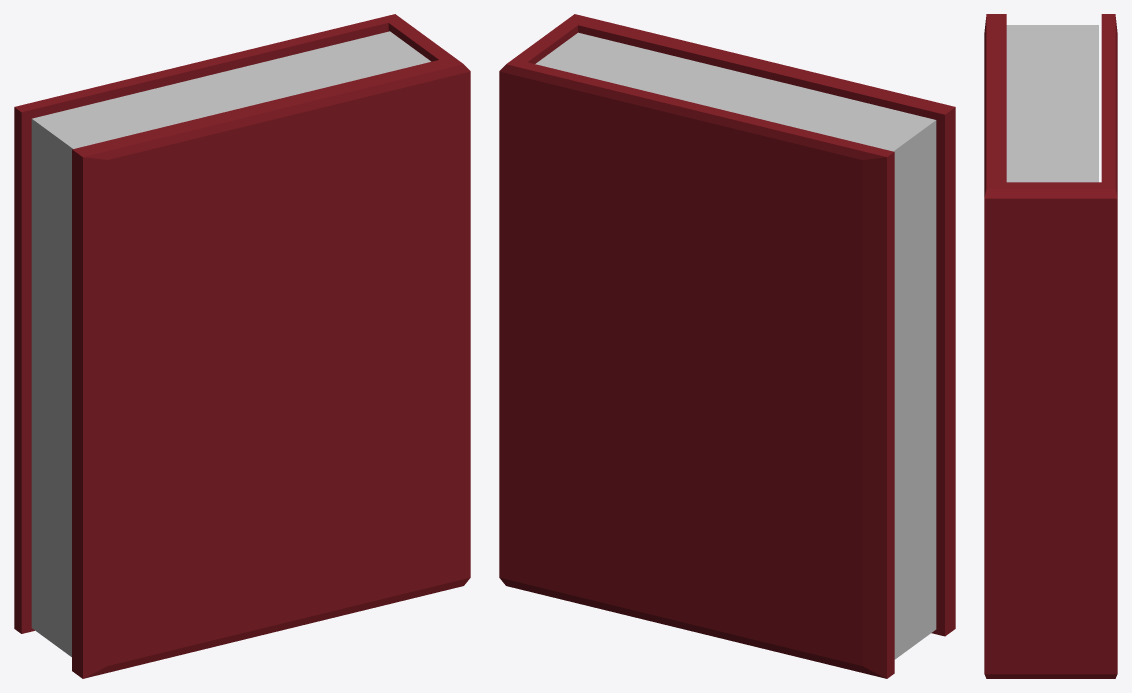
File: book.fbx
3 views of the same model, side by side, from view 1: azimuth 30°, elevation 25°; view 2: azimuth 150°, elevation 25°; view 3: azimuth 270°, elevation 25° (orthographic). The views are drawn at different scales.
Parts seen in each view (by area): view 1: Cube.001, Cube; view 2: Cube.001, Cube; view 3: Cube.001, Cube.
Boxes of the visible parts, box(x1,y1,x2,y2) form: Cube.001: box(14, 14, 470, 678); Cube: box(31, 31, 430, 656); Cube.001: box(499, 14, 955, 678); Cube: box(535, 32, 936, 659); Cube.001: box(984, 14, 1117, 678); Cube: box(1006, 25, 1098, 182).
Size of the model in its own units: 116 by 150 by 36.76.
